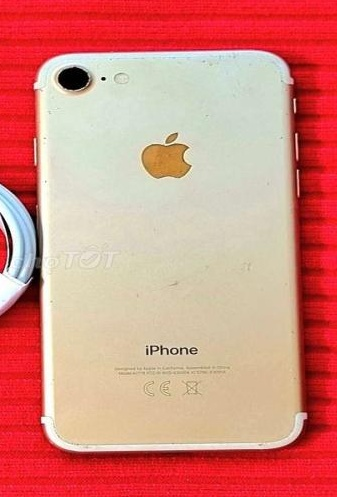scratch: (80, 50, 284, 79), (214, 254, 278, 316), (34, 99, 52, 193), (125, 270, 191, 293), (48, 66, 97, 93), (44, 282, 54, 311)
